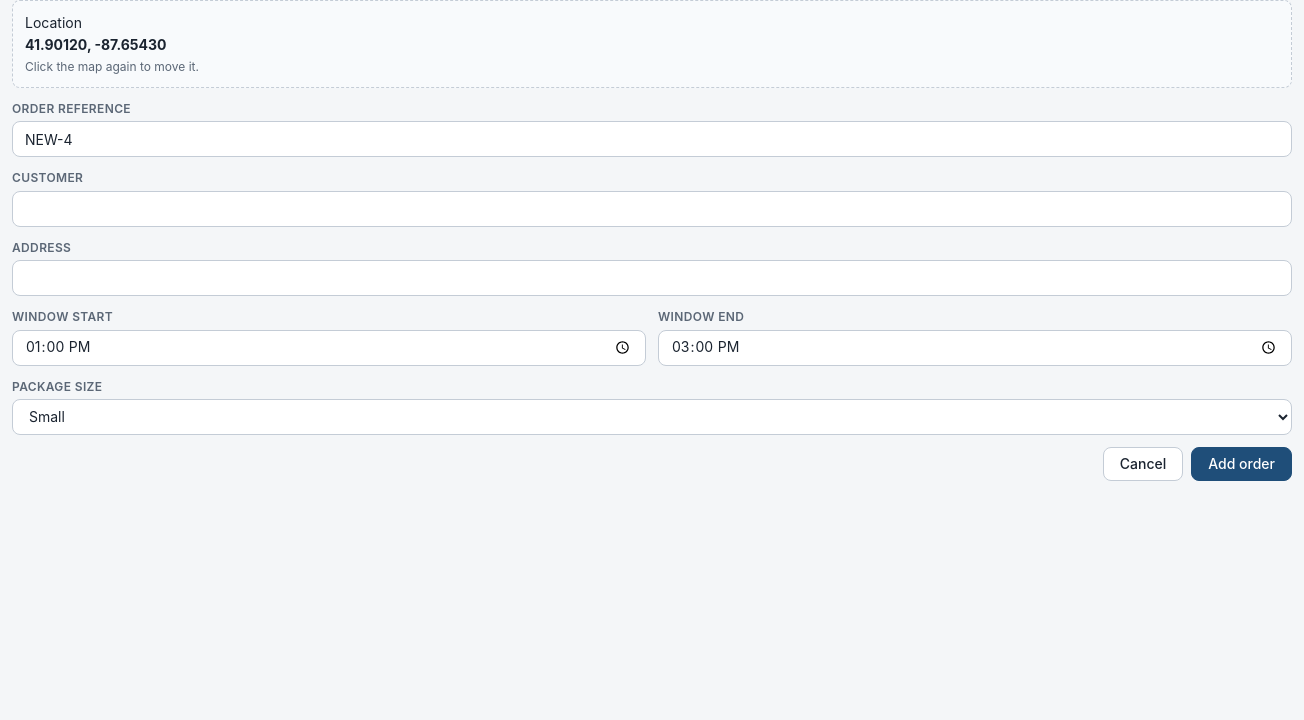
it: AddOrderForm › requires customer and address
Click the button "Add order".
click(1242, 464)  # box [1191, 447, 1292, 481]
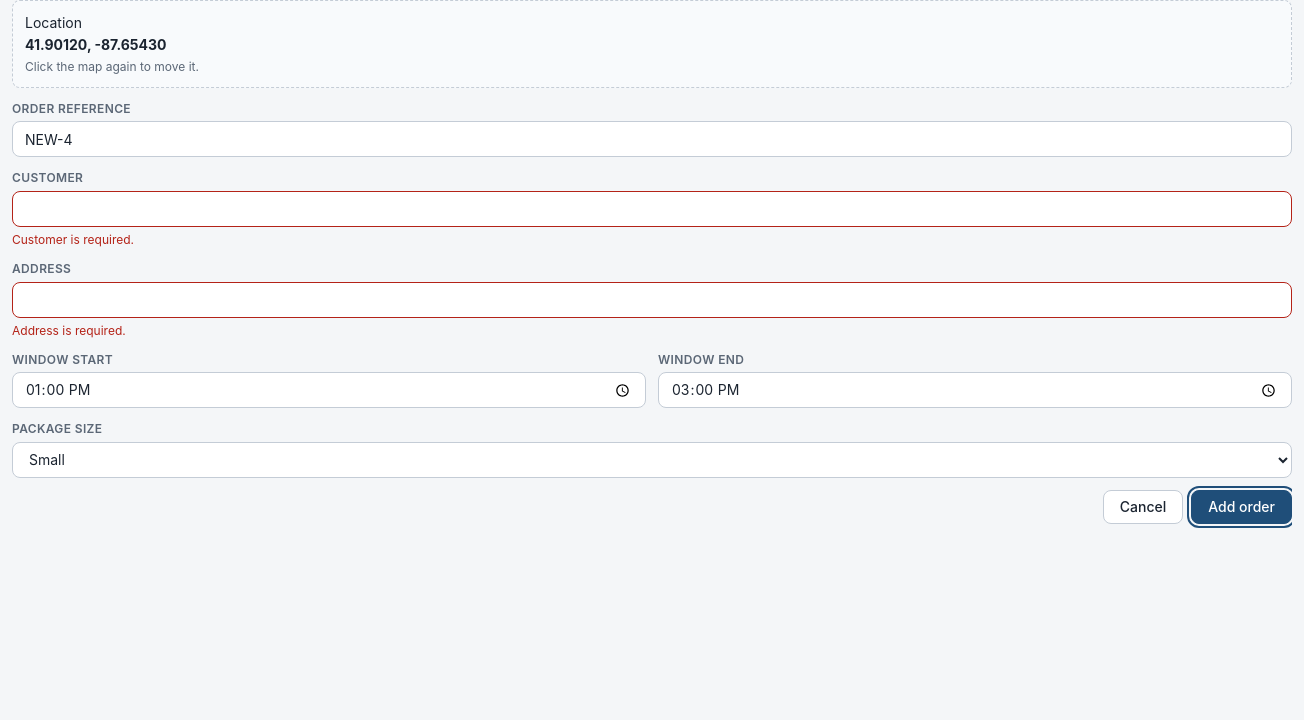
Result: the text "Customer is required." is shown at [12, 232, 134, 247]
Result: the text "Address is required." is shown at [12, 322, 126, 338]
